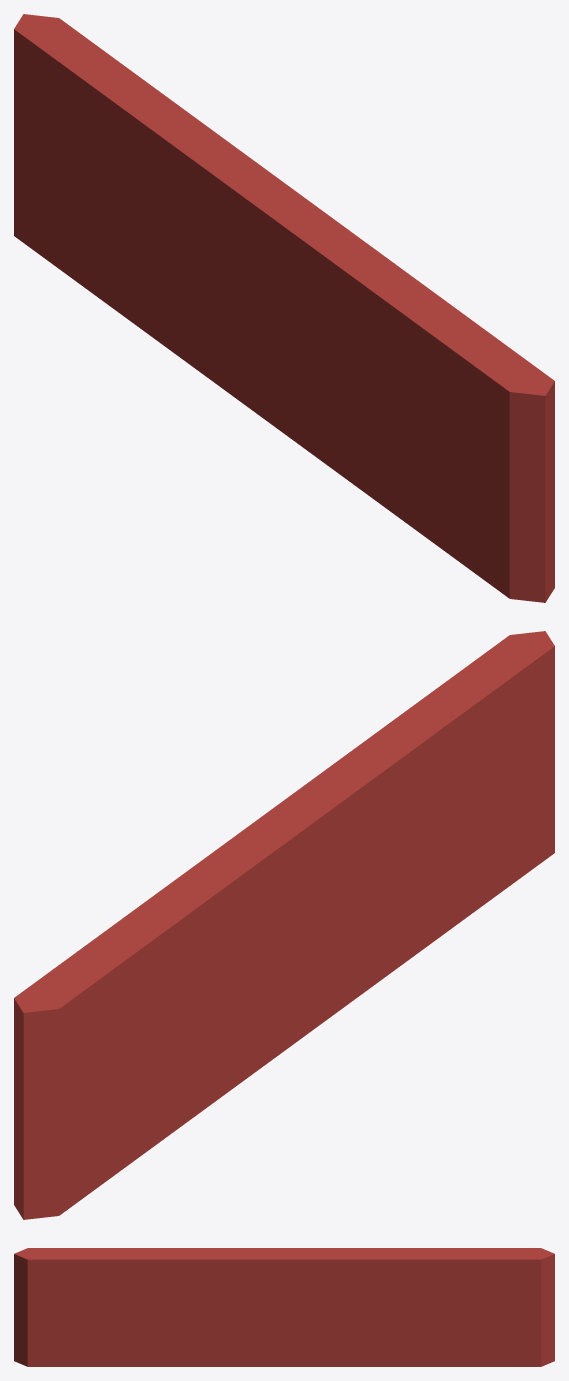
File: lamp_bracket_lod2.glb
3 renders of one model, top to bottom at view 1: azimuth 30°, elevation 25°; view 2: azimuth 150°, elevation 25°; view 3: azimuth 270°, elevation 25°, orthographic. The views are drawn at different scales.
Visible parts, largest first — view 1: lamp_bracket_lod2; view 2: lamp_bracket_lod2; view 3: lamp_bracket_lod2.
Part boxes in pixels (left/top/right/bottom): lamp_bracket_lod2: left=14, top=14, right=554, bottom=602; lamp_bracket_lod2: left=14, top=631, right=554, bottom=1219; lamp_bracket_lod2: left=14, top=1248, right=554, bottom=1366.
Size of the model in its own units: 0.008 by 0.035 by 0.16.
